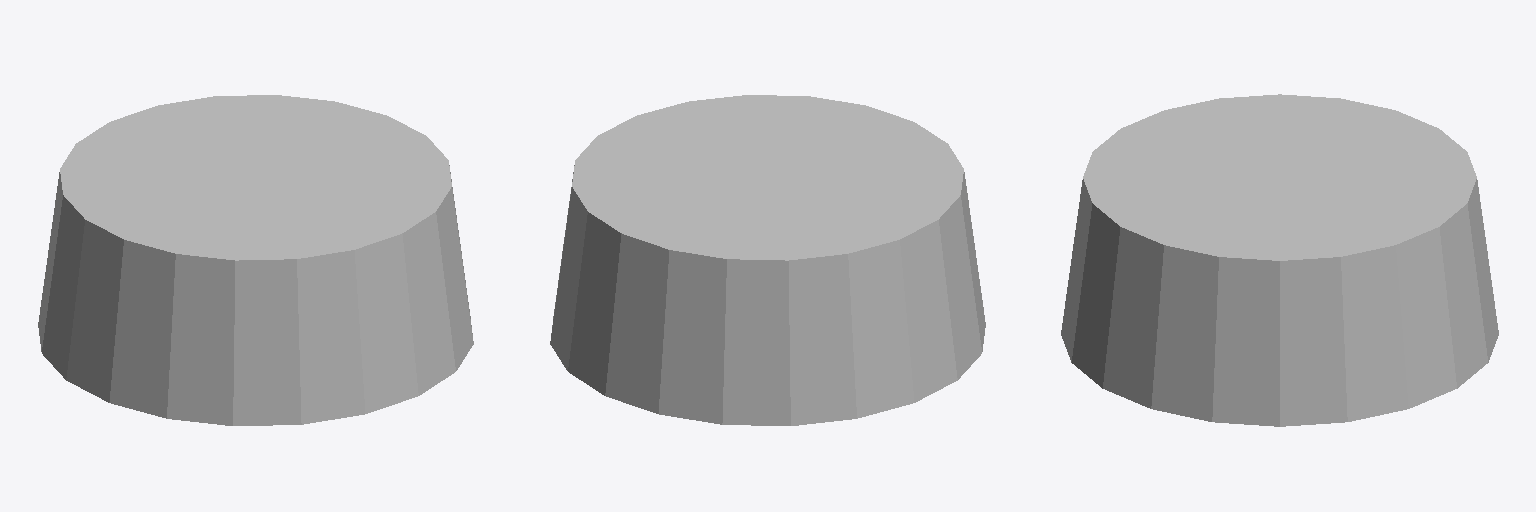
File: shrubbranch.obj
3 renders of one model, left to right at view 1: azimuth 30°, elevation 25°; view 2: azimuth 150°, elevation 25°; view 3: azimuth 270°, elevation 25°, orthographic.
Parts seen in each view (by area): view 1: pCylinder1; view 2: pCylinder1; view 3: pCylinder1.
Part boxes in pixels (x1,y1,x2,y2): pCylinder1: (38, 95, 473, 425); pCylinder1: (550, 95, 985, 425); pCylinder1: (1061, 94, 1498, 426).
Bounding box in the file's own units: 1.48 × 0.5845 × 1.48.